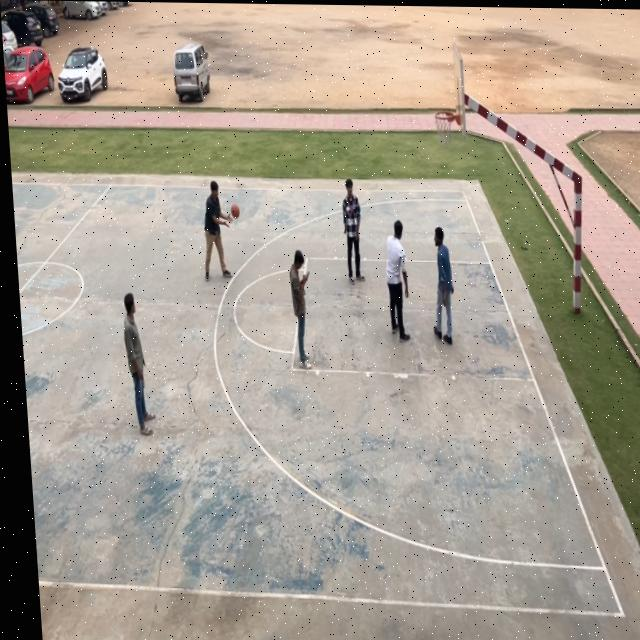basketball: (230, 202, 242, 221)
hoop: (433, 109, 456, 151)
